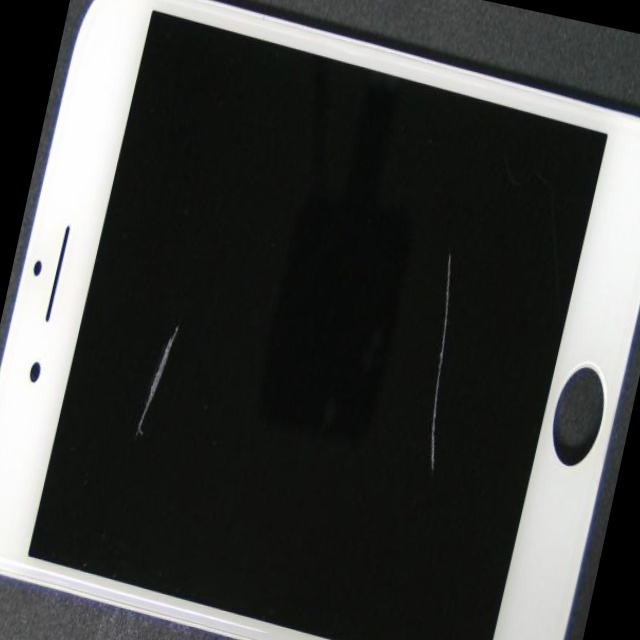scratch: (227, 316, 636, 622), (71, 130, 309, 519)
